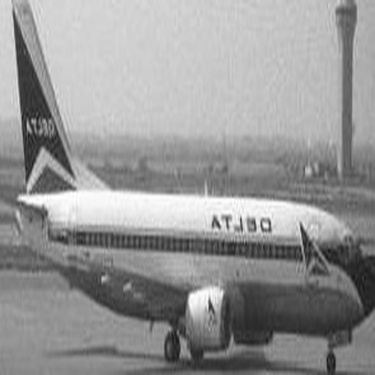airplane: (6, 1, 373, 354)
